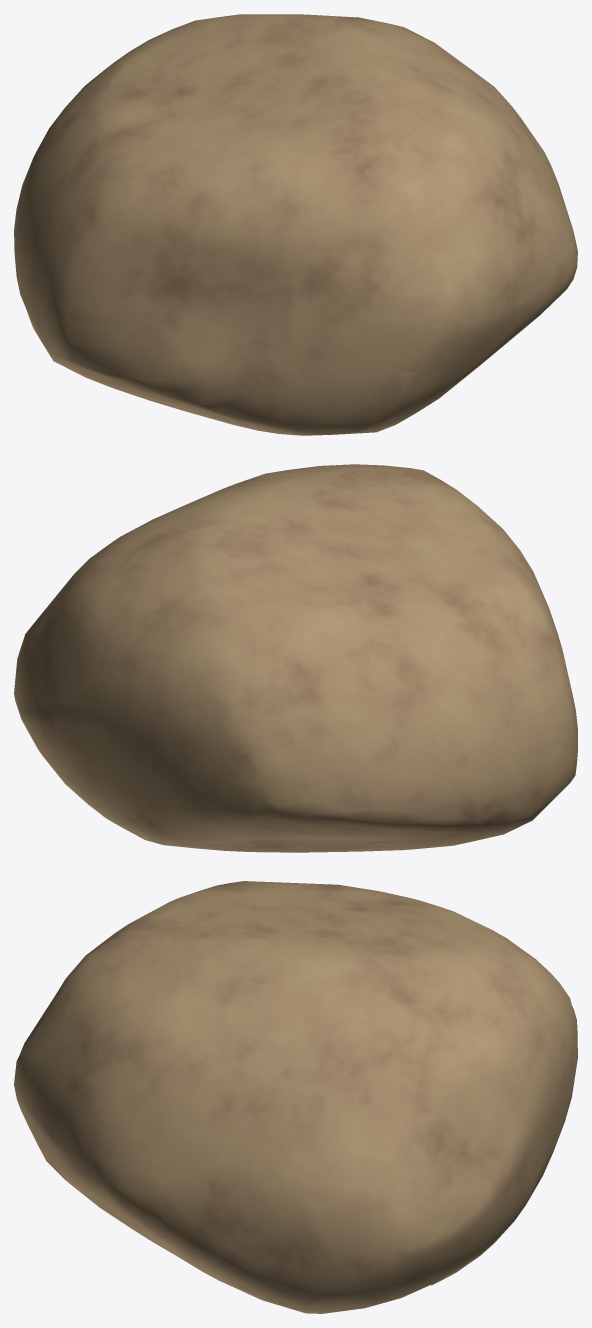
File: Rock210x200x130.gltf
3 renders of one model, top to bottom at view 1: azimuth 30°, elevation 25°; view 2: azimuth 150°, elevation 25°; view 3: azimuth 270°, elevation 25°, orthographic.
Visible parts, largest first — view 1: Stein 210x200x130LowPoly; view 2: Stein 210x200x130LowPoly; view 3: Stein 210x200x130LowPoly.
Part boxes in pixels (x1,y1,x2,y2): Stein 210x200x130LowPoly: (14,14,577,435); Stein 210x200x130LowPoly: (14,464,577,852); Stein 210x200x130LowPoly: (14,881,577,1313).
Bounding box in the file's own units: 2.1 × 1.3 × 2.03.
Materials: 1 (1 with a texture image).
